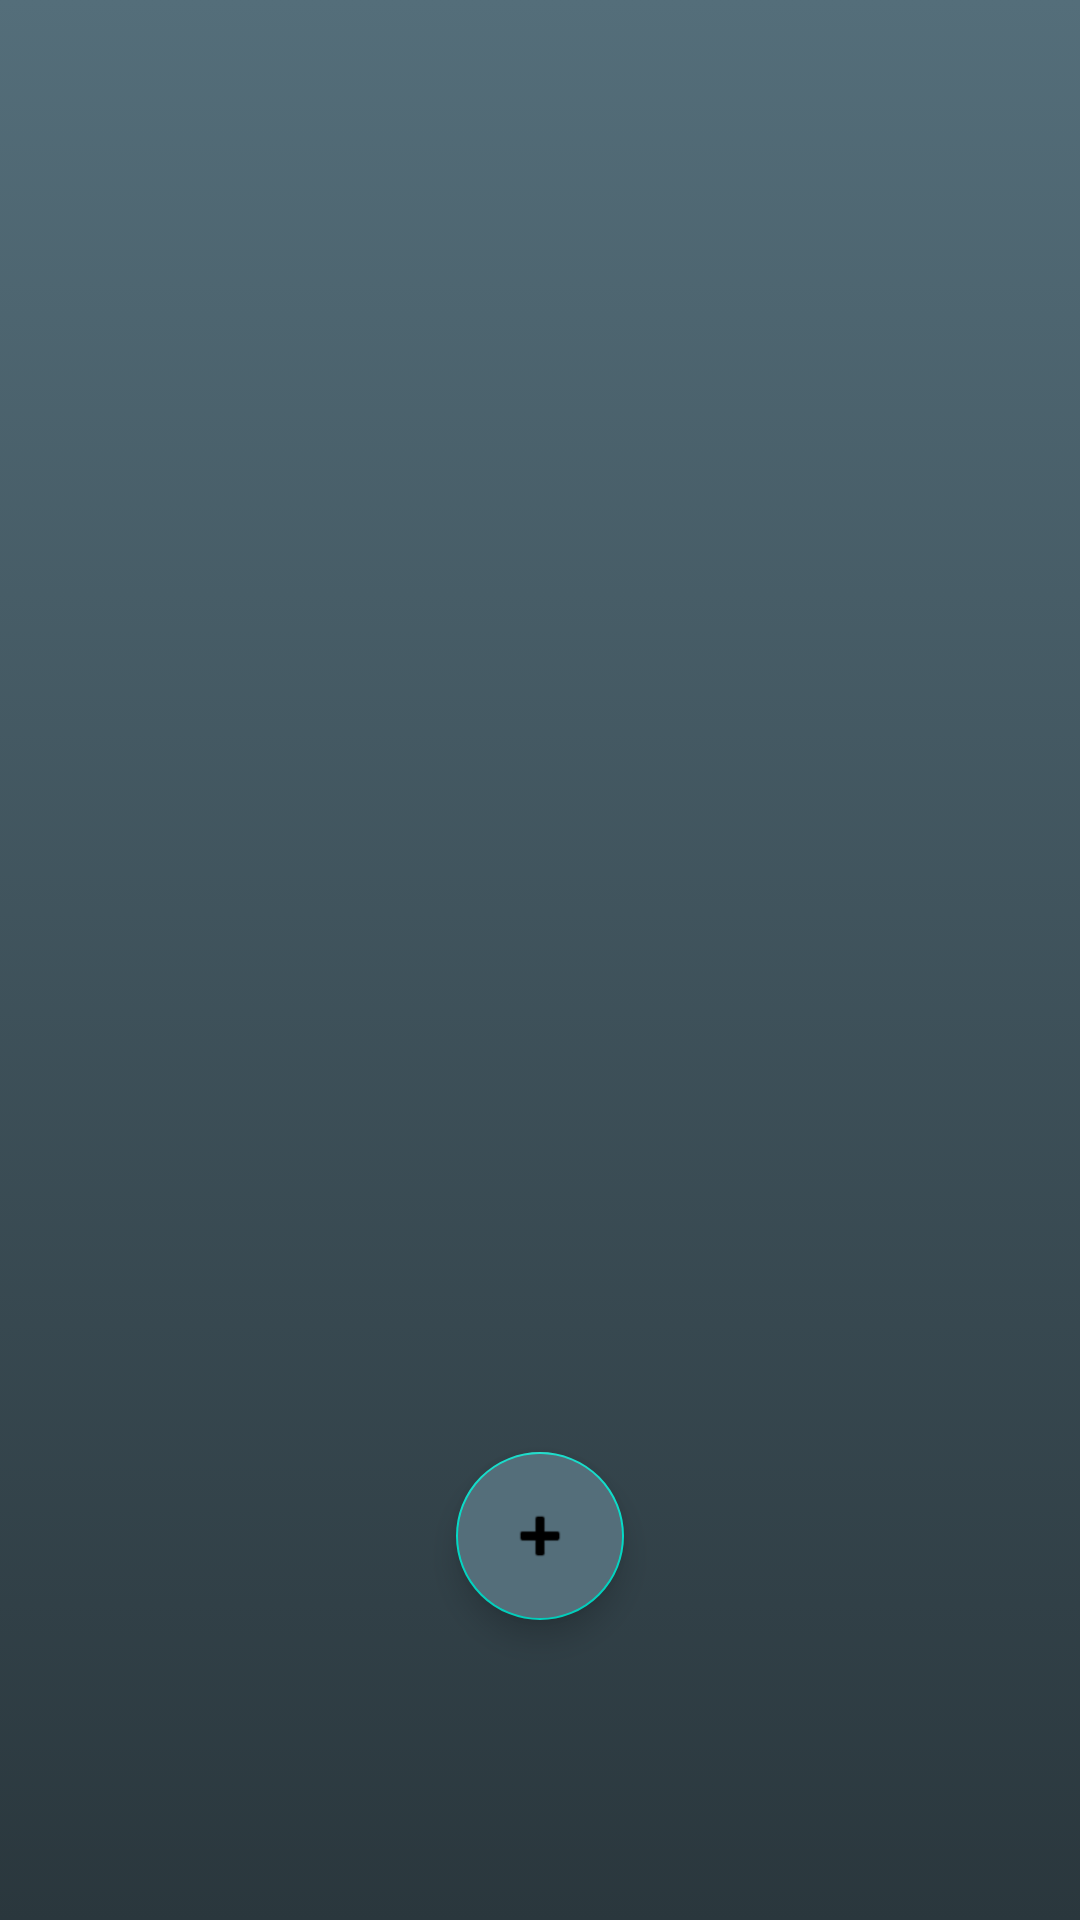

Icon click points for this 1080x1920 phone screenshot, format point (x, y):
add: point (540, 1536)
